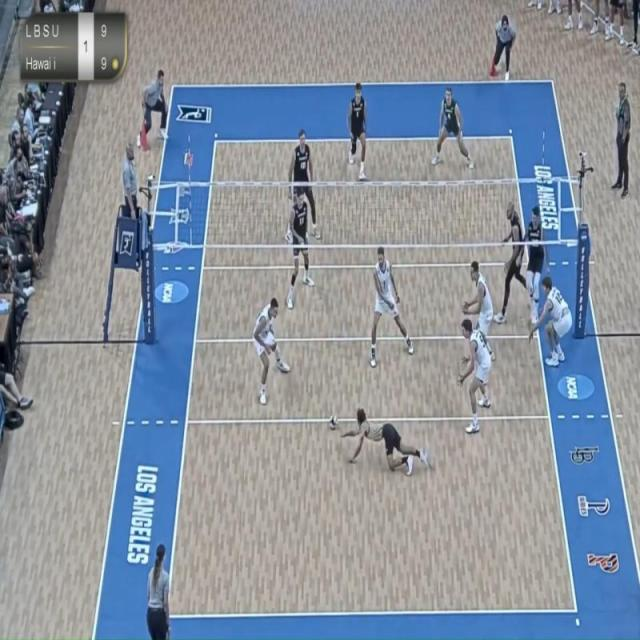volleyball: (326, 410, 340, 434)
